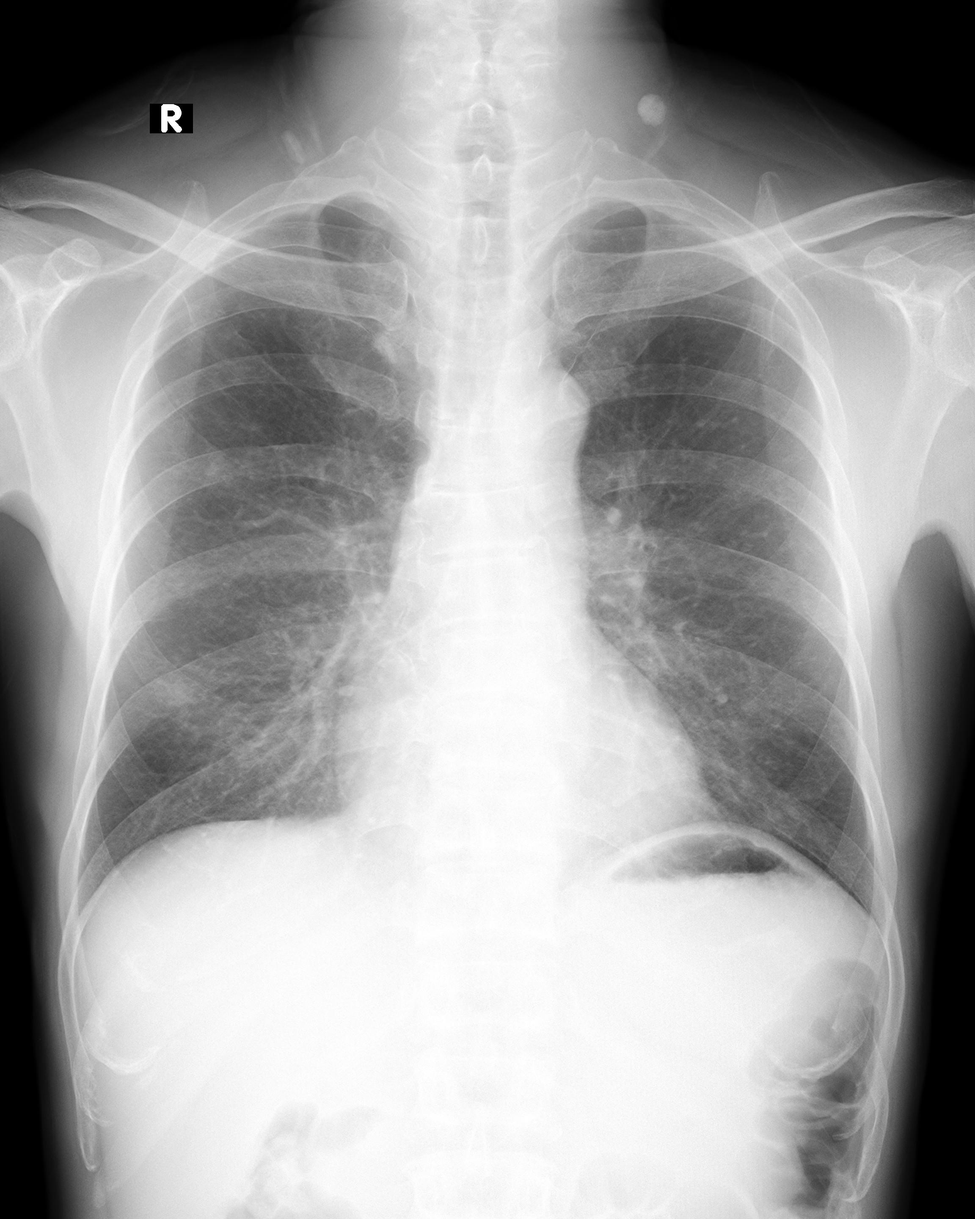Pleural thickening: (647, 199, 736, 249), (229, 204, 322, 228)
